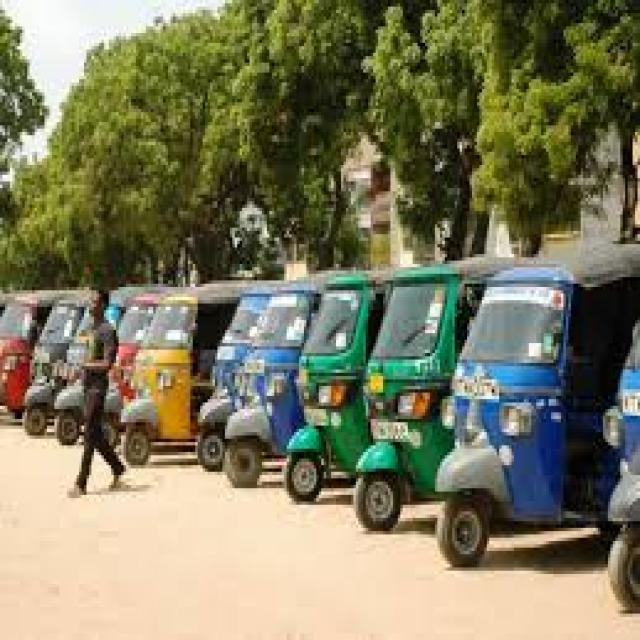tuktuk: (425, 219, 606, 599), (342, 245, 468, 578)
